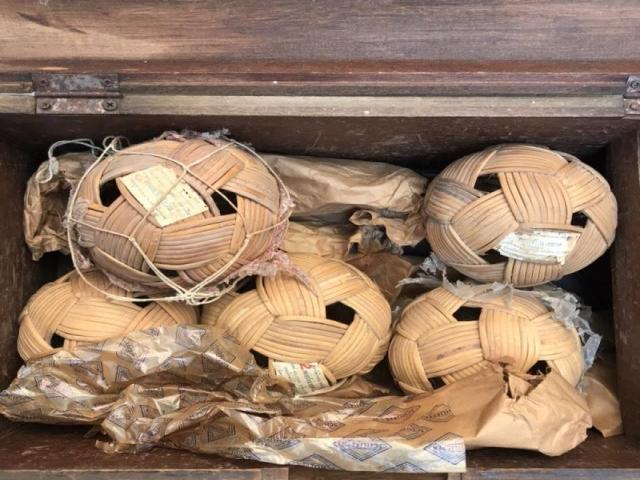round ball: (66, 132, 291, 304), (424, 144, 618, 287), (201, 253, 391, 394), (389, 286, 584, 393), (18, 271, 196, 361)
